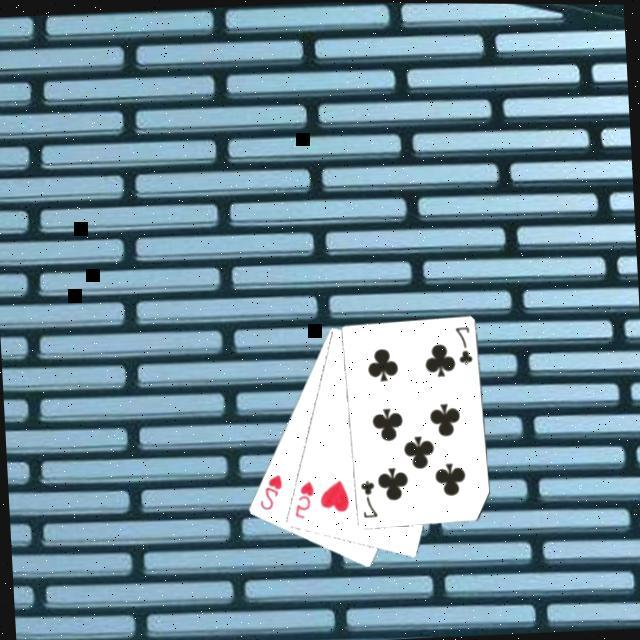2H: (253, 468, 286, 512)
5H: (288, 475, 316, 520)
7C: (450, 320, 474, 366), (356, 474, 379, 519)
